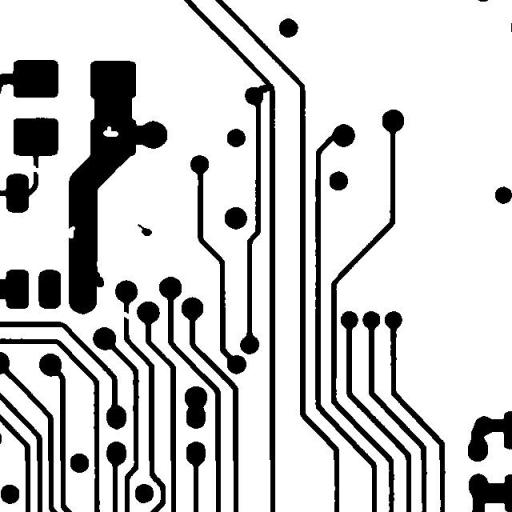copper: (130, 216, 159, 243)
mousebite: (56, 218, 82, 246)
open: (24, 158, 50, 182), (115, 304, 138, 326)
pin-hole: (95, 118, 126, 144)
short: (250, 77, 278, 100)
spur: (86, 264, 112, 294)
